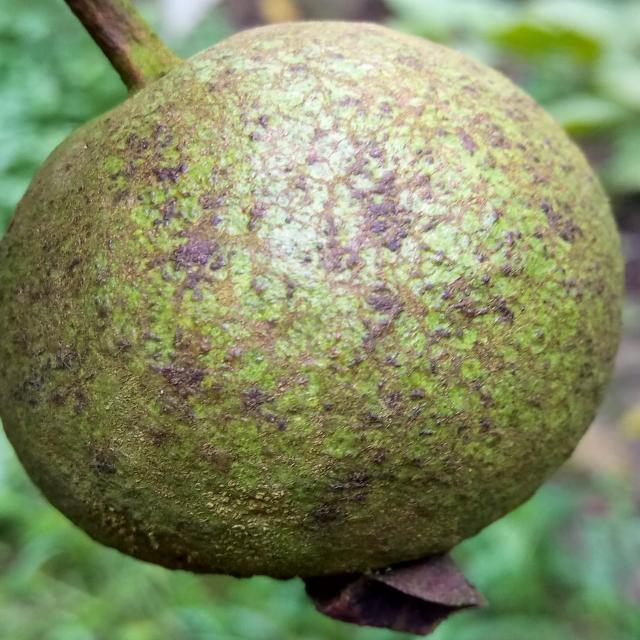Scab: (3, 22, 621, 578)
